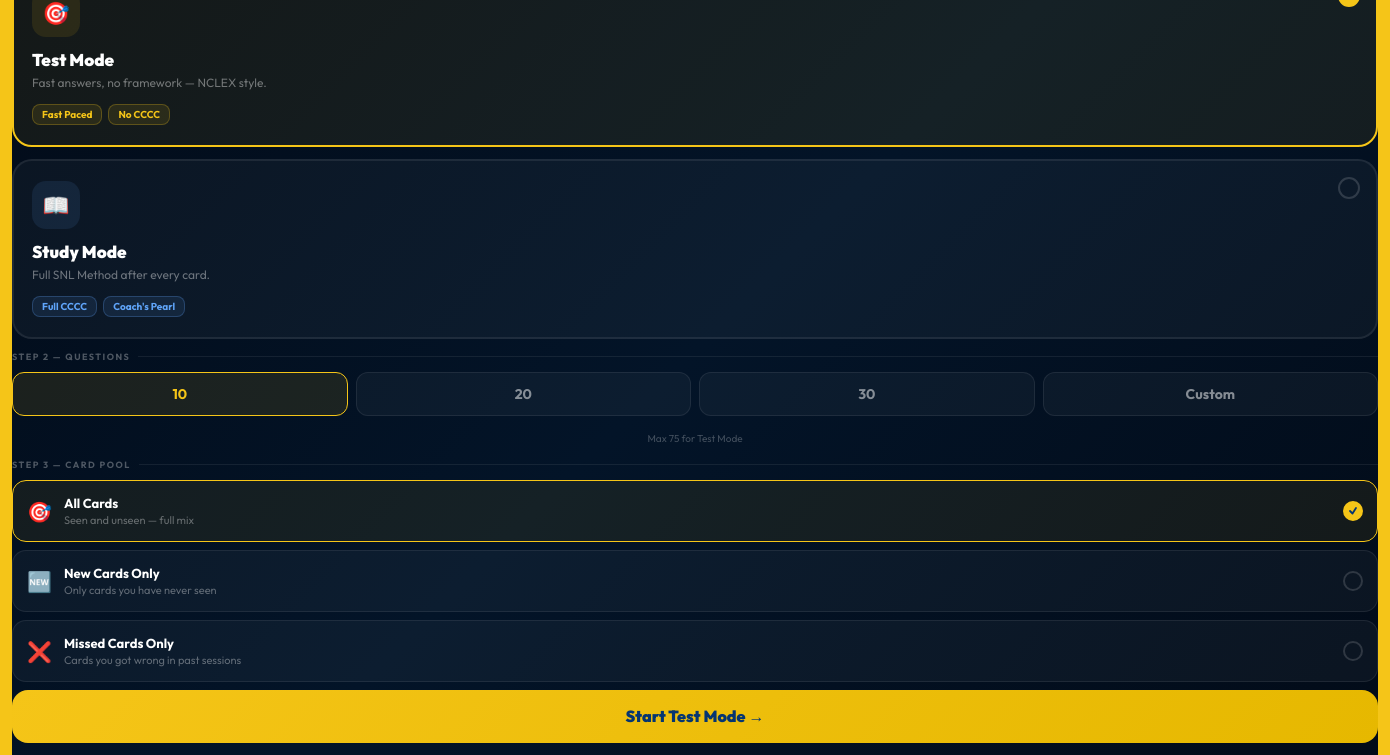
Test: SessionSetup › shows error when no cards returned
This screenshot has width=1390, height=755.
(page scrolled)
Step 1. Click the button "Start Test Mode →" → (695, 717), box x1=12 y1=690 x2=1378 y2=743
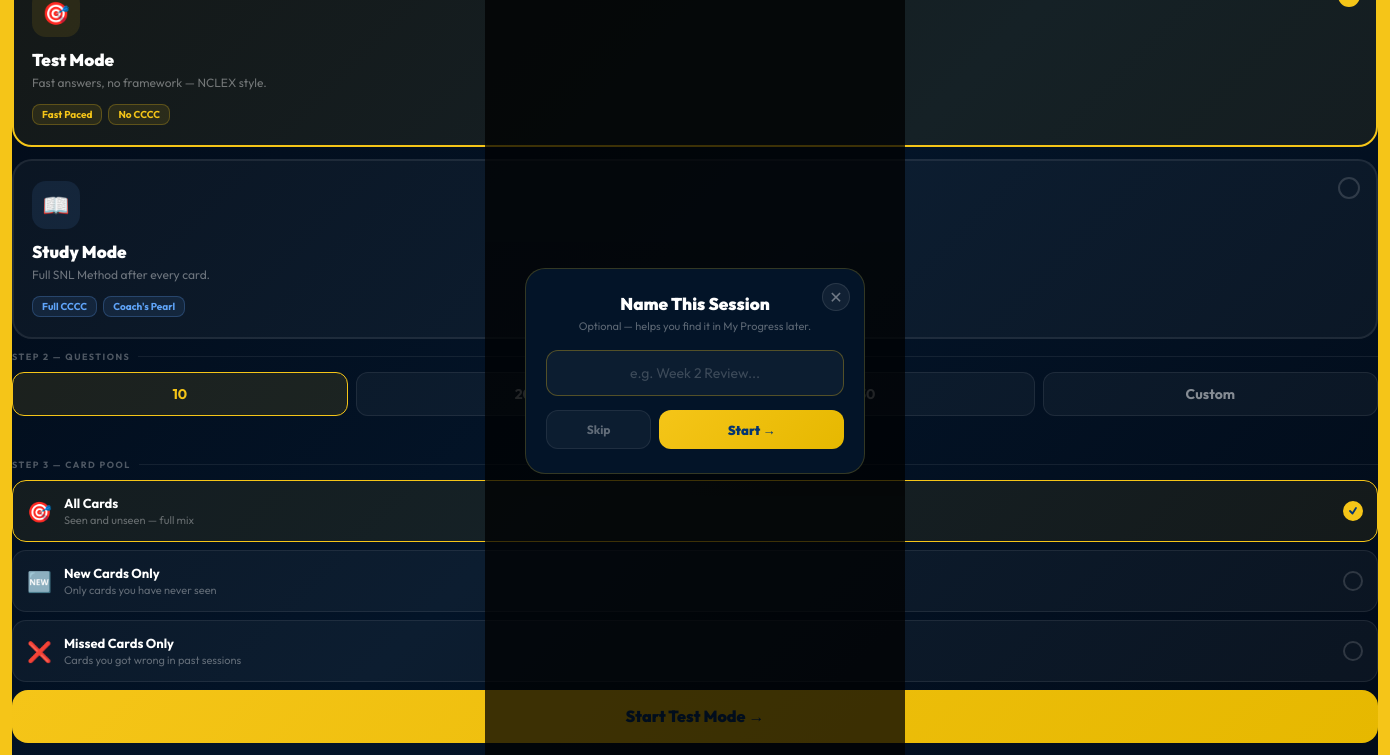
Step 2. Click the button "Skip" → (599, 430), box x1=546 y1=410 x2=651 y2=449
(page scrolled)
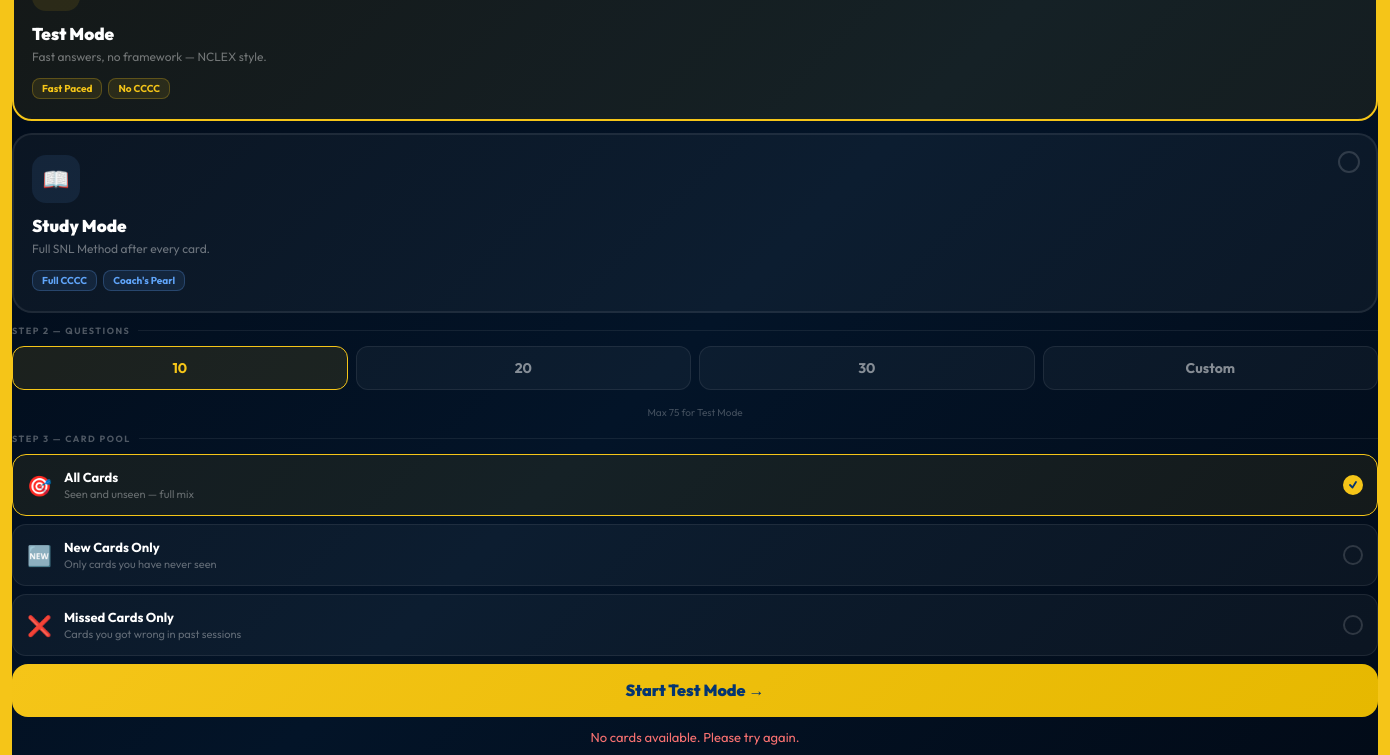
Expected: the text "No cards available. Please try again." is shown, x1=590 y1=729 x2=800 y2=745
